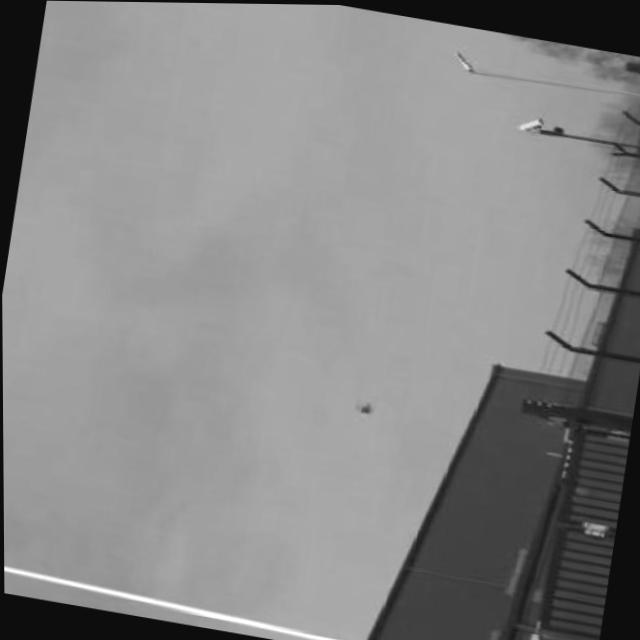helikopter: (345, 393, 382, 418)
